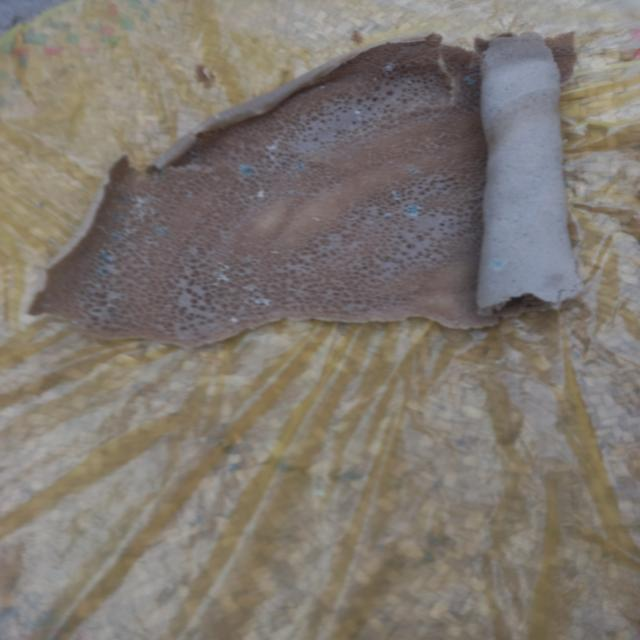injera_mold: (131, 195, 158, 221), (212, 261, 232, 286), (110, 226, 141, 242), (242, 295, 272, 307), (88, 304, 117, 316), (239, 164, 257, 177), (96, 249, 115, 261), (488, 258, 503, 270), (381, 60, 399, 70), (406, 205, 422, 216), (152, 225, 169, 235), (95, 266, 110, 277), (266, 140, 280, 150), (242, 284, 257, 292), (390, 191, 402, 201), (464, 76, 477, 85), (408, 167, 421, 175), (113, 195, 129, 201), (184, 190, 195, 198), (108, 212, 122, 218), (256, 190, 266, 198), (382, 212, 393, 218), (296, 164, 306, 170), (230, 317, 240, 323), (248, 195, 255, 200), (354, 110, 362, 114), (288, 190, 294, 195), (320, 85, 326, 89)
